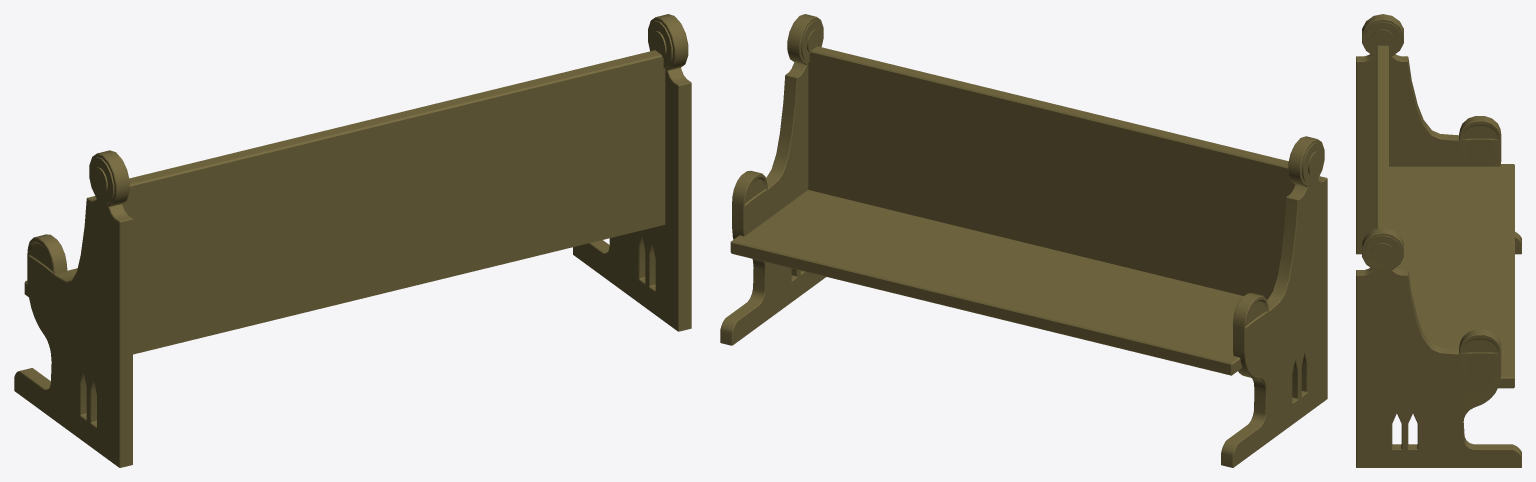
The model's file is Bench.fbx.
3 views of the same model, side by side, from view 1: azimuth 30°, elevation 25°; view 2: azimuth 150°, elevation 25°; view 3: azimuth 270°, elevation 25° (orthographic). The views are drawn at different scales.
Visible parts, largest first — view 1: Bench; view 2: Bench; view 3: Bench.
Boxes of the visible parts, bbox=[...] form: Bench: bbox=[14, 14, 691, 467]; Bench: bbox=[720, 14, 1327, 467]; Bench: bbox=[1356, 14, 1521, 467].
Bounding box in the file's own units: 4.02 × 1.99 × 1.28.
